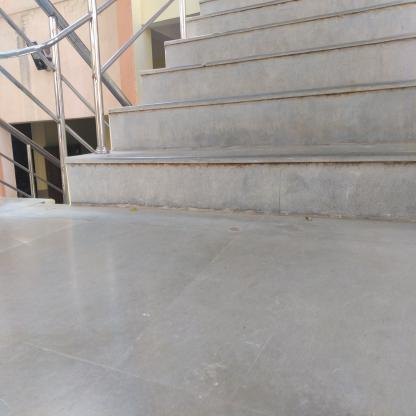stairs: (190, 5, 416, 228)
